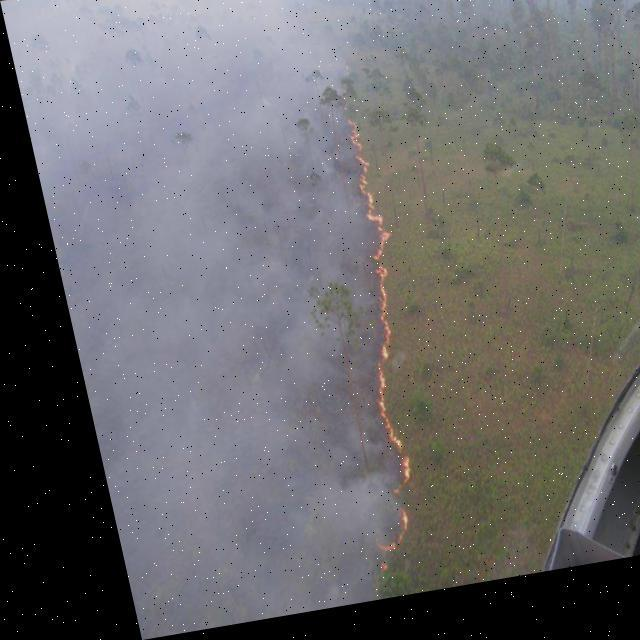Fire: (318, 126, 398, 364), (350, 372, 391, 498), (341, 514, 390, 562)
